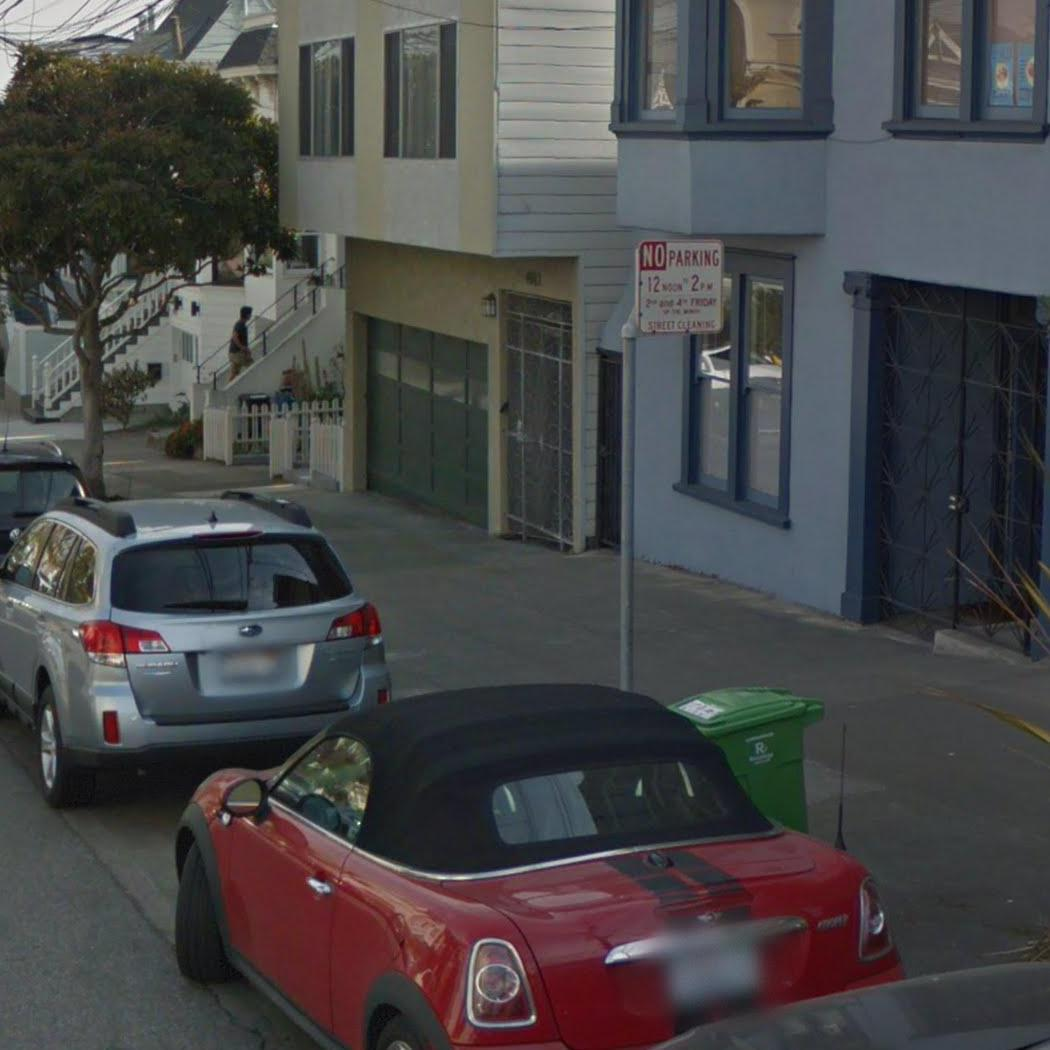No Parking: (625, 236, 729, 336)
